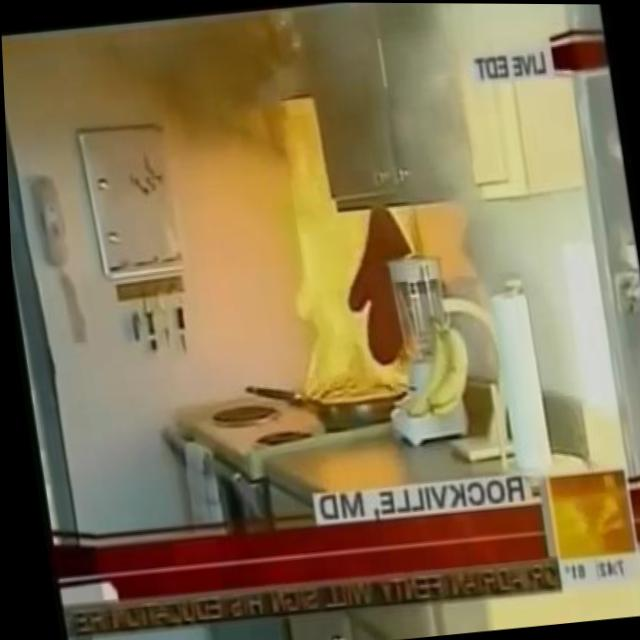fire: (270, 165, 404, 409)
